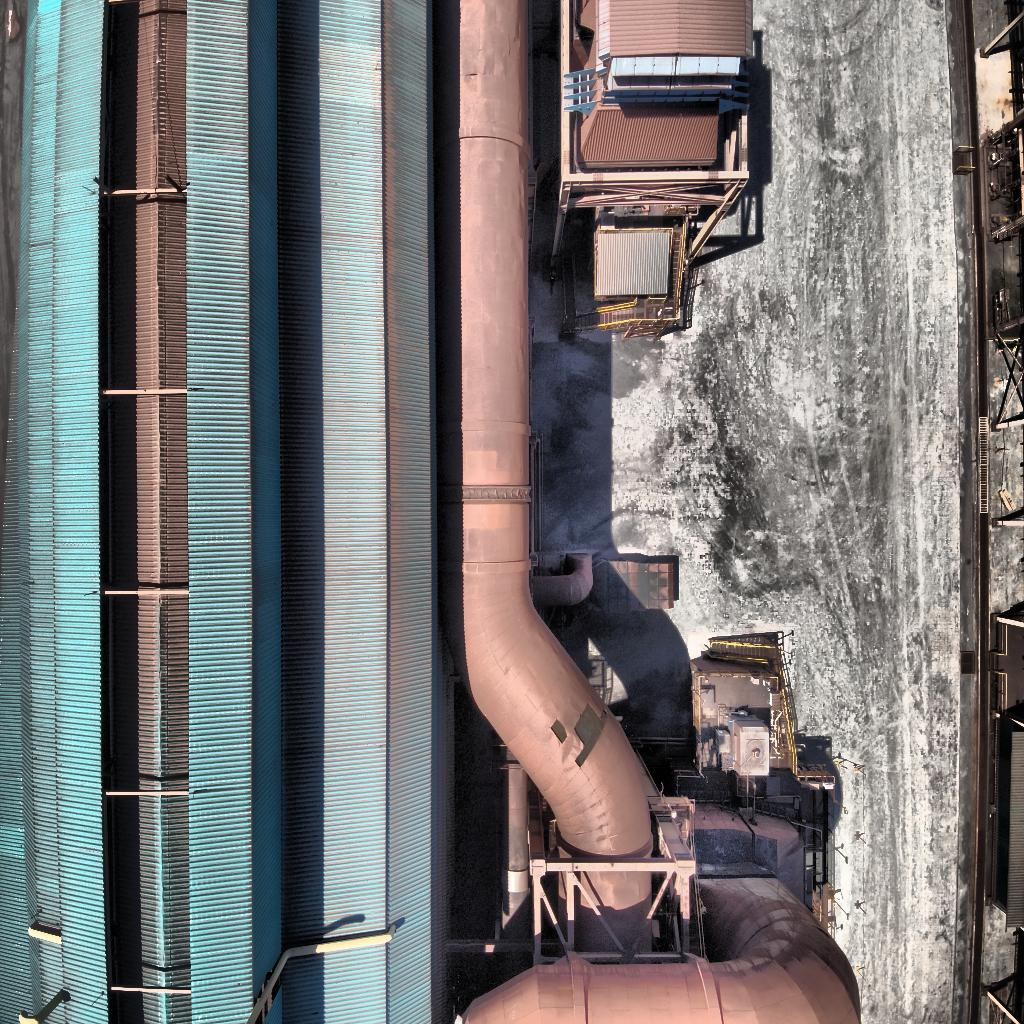Failures: (574, 701, 600, 744), (574, 744, 597, 768), (551, 718, 568, 745), (600, 707, 608, 736)
